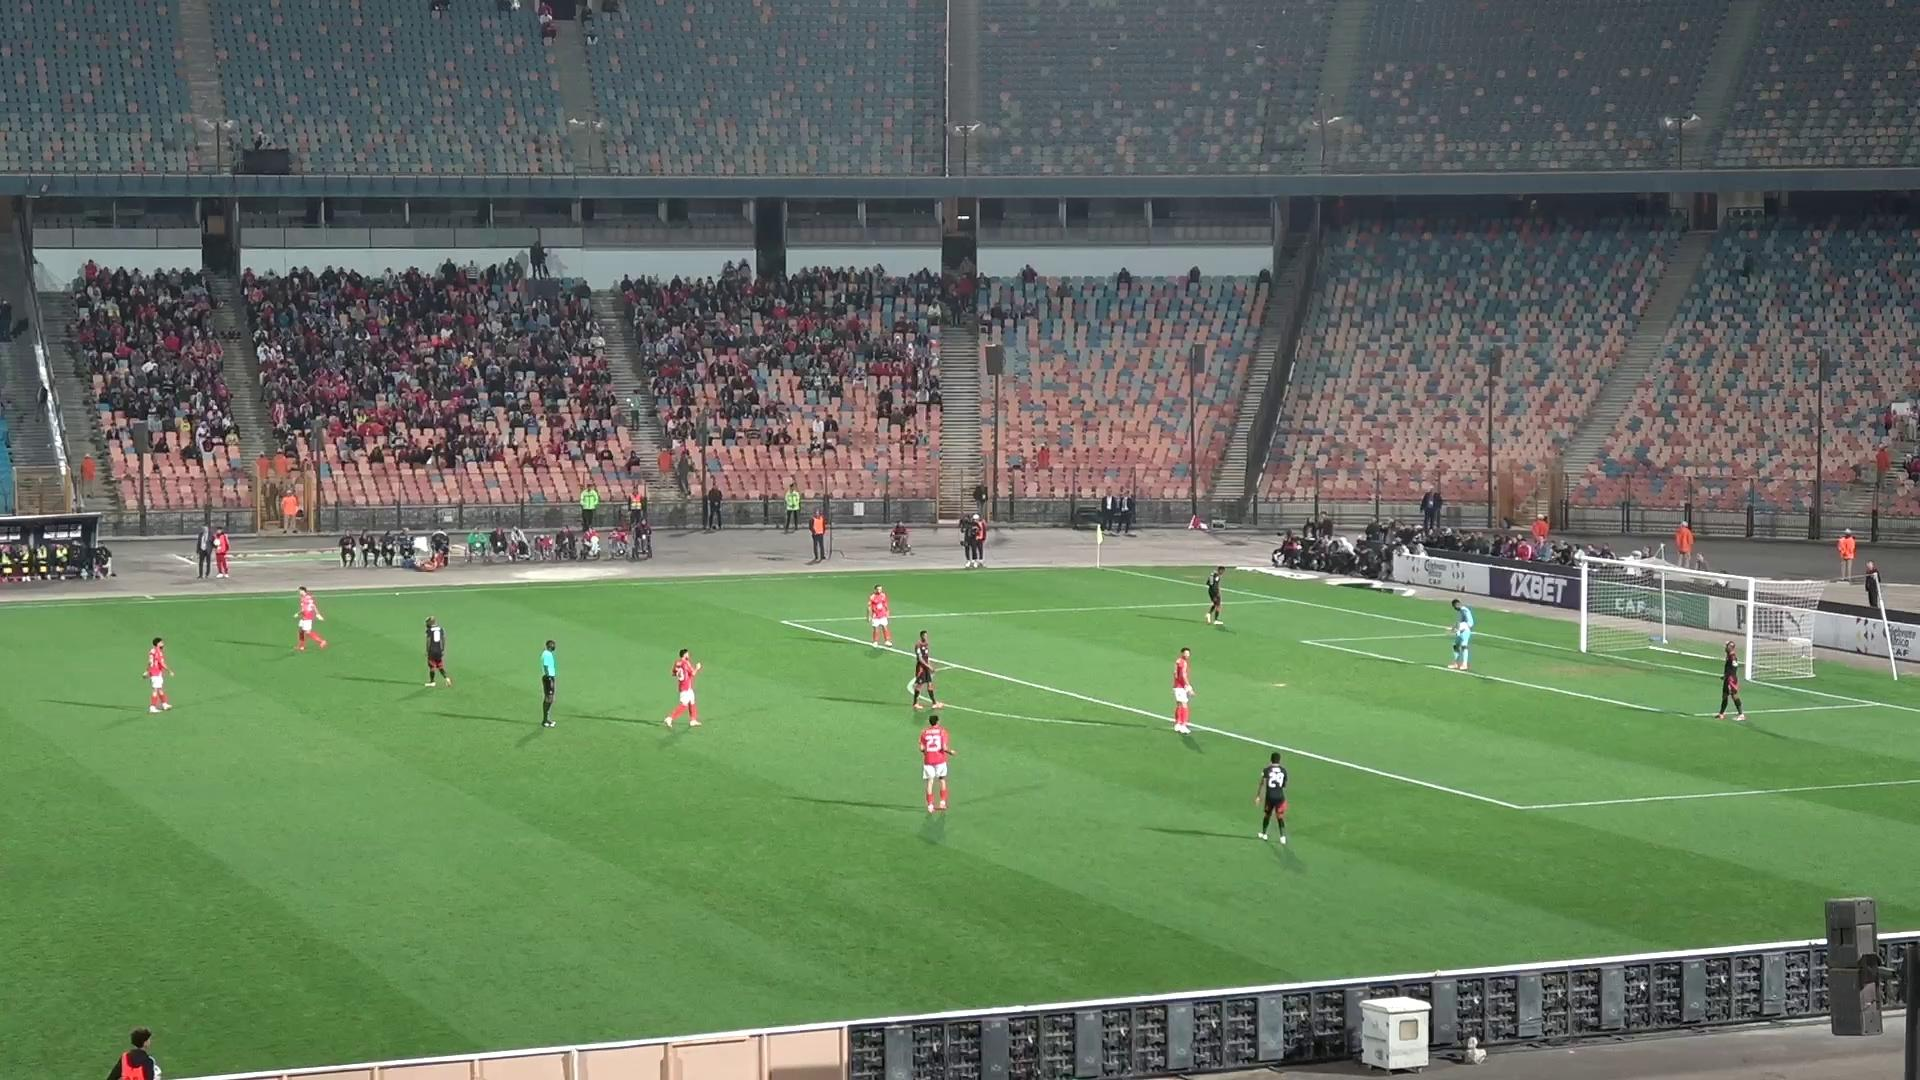GK2: (1447, 597, 1474, 673)
Refree: (541, 640, 559, 727)
Team1: (919, 712, 953, 814), (663, 647, 702, 727), (144, 637, 171, 712), (295, 585, 326, 649), (1172, 647, 1193, 736), (866, 585, 890, 647)
Team2: (1255, 752, 1288, 843), (907, 630, 942, 707), (1714, 641, 1746, 720), (425, 616, 454, 684), (1205, 567, 1226, 625)
